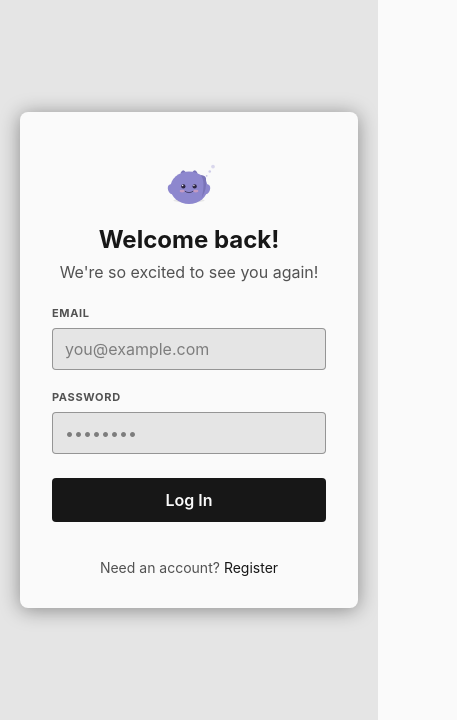
Test: Auth — register › shows the "check your email" screen instead of logging in, on success
Click the button "Register" at (251, 568), box [224, 559, 278, 576]
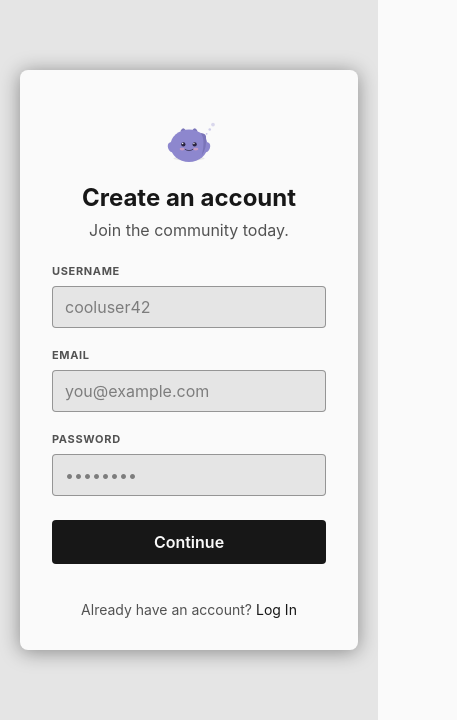
Type "newperson" into the field labelled "Username" at (189, 307), box [52, 286, 326, 328]
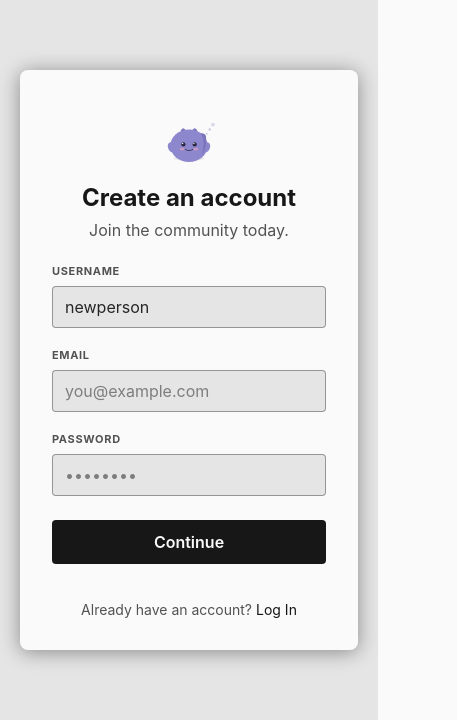
Type "newperson@example.com" into the field labelled "Email" at (189, 391), box [52, 370, 326, 412]
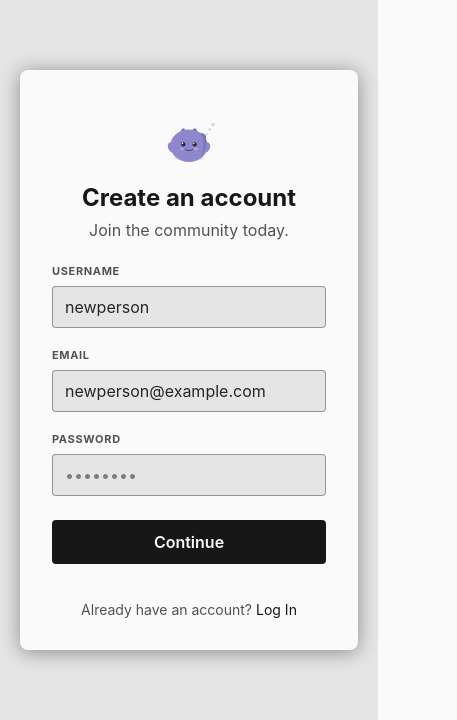
Type "password123" into the password field labelled "Password" at (189, 475), box [52, 454, 326, 496]
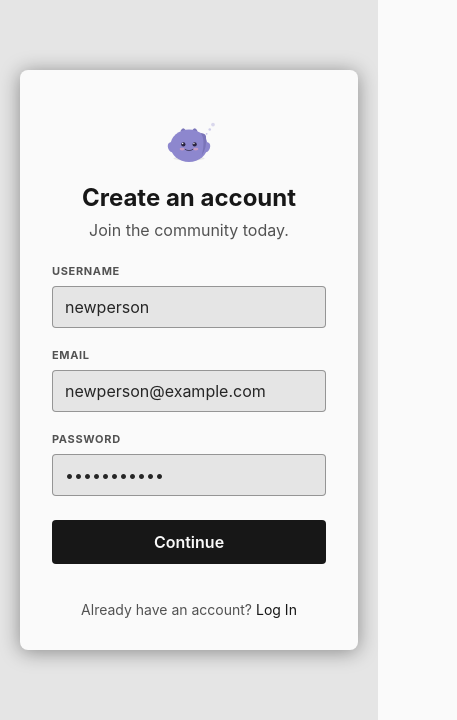
Click the submit button at (189, 542), box [52, 520, 326, 564]
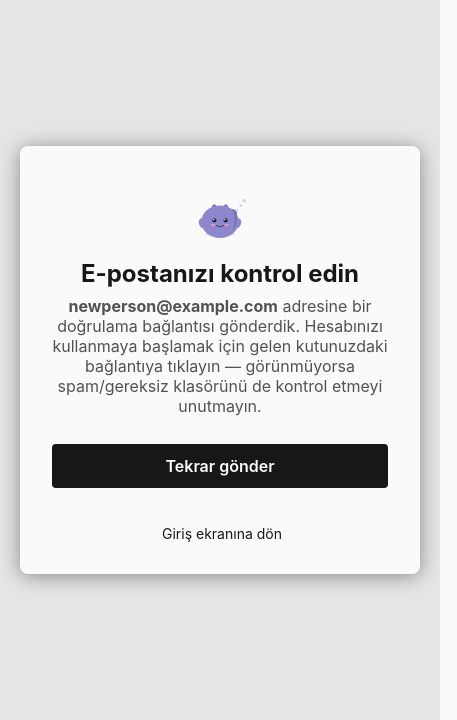
Now the heading "E-postanızı kontrol edin" is shown, box [81, 259, 359, 288]
Now the text "newperson@example.com" is shown, box [68, 296, 278, 316]
